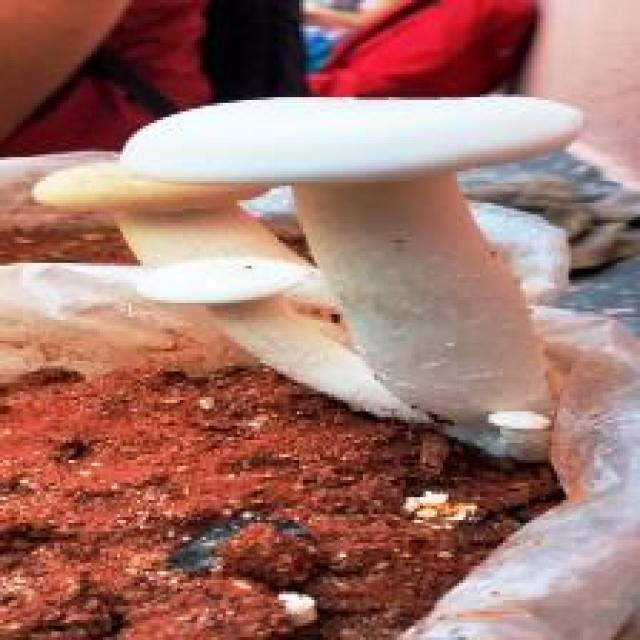field-mushroom: (120, 89, 589, 460)
